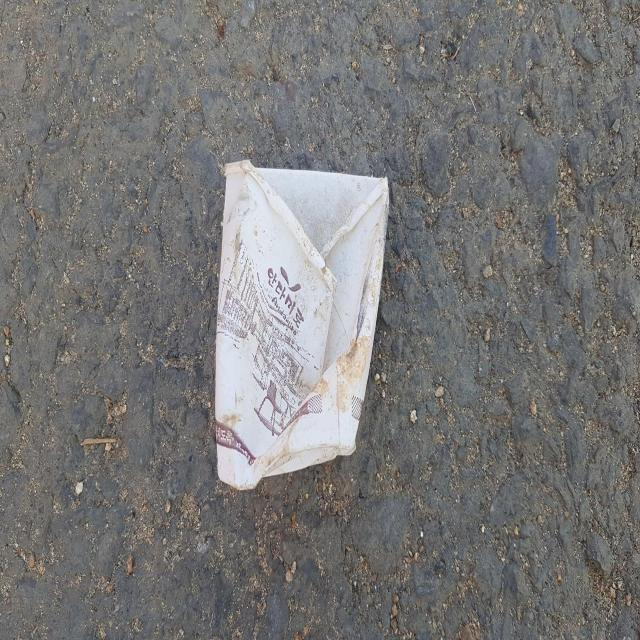paperpack: (215, 159, 389, 489)
